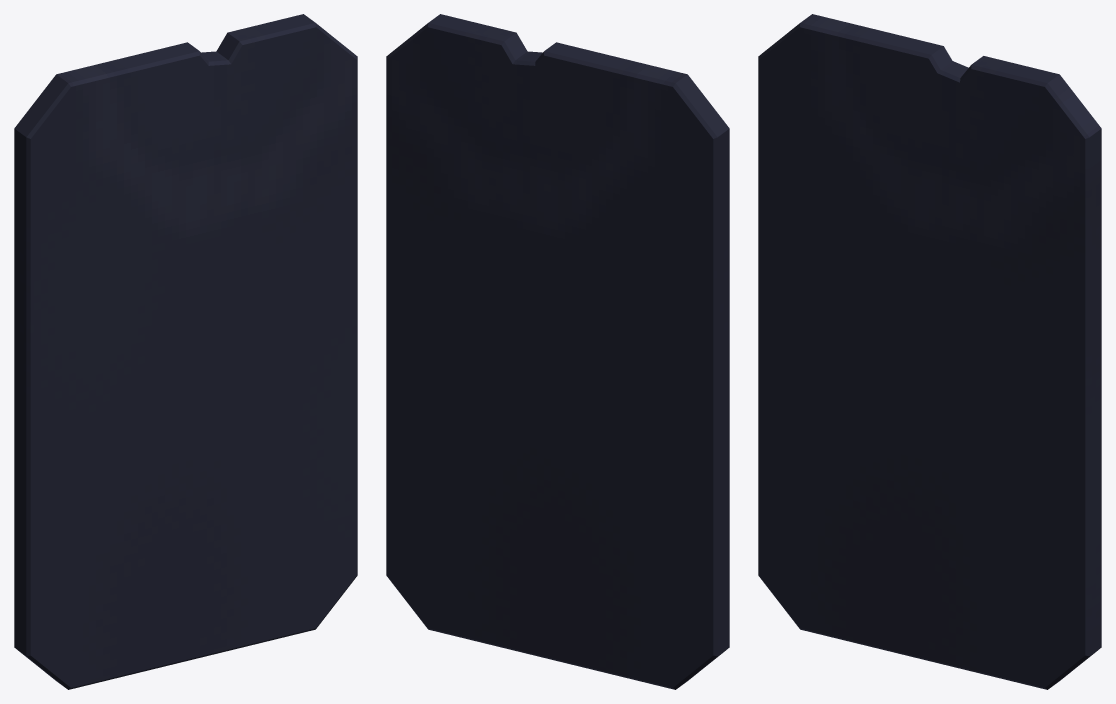
File: relic.glb
3 renders of one model, left to right at view 1: azimuth 30°, elevation 25°; view 2: azimuth 150°, elevation 25°; view 3: azimuth 330°, elevation 25°, orthographic.
Parts seen in each view (by area): view 1: Body.Shell; view 2: Body.Shell; view 3: Body.Shell.
Boxes of the visible parts, <box> form: Body.Shell: <box>14,14,357,689</box>; Body.Shell: <box>386,14,729,689</box>; Body.Shell: <box>758,14,1101,689</box>.
Bounding box in the file's own units: 0.1875 × 0.3281 × 0.015.
Materials: 1 (1 with a texture image).
